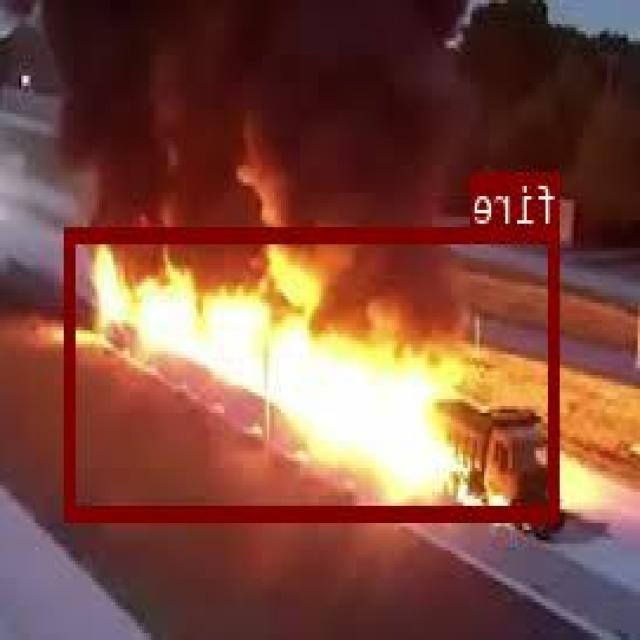fire: (67, 226, 560, 517)
